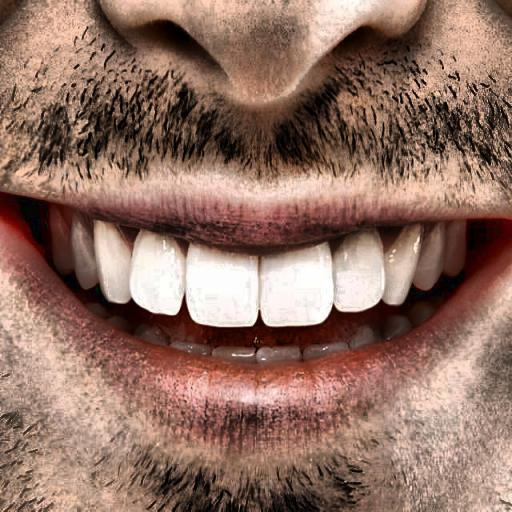Healthy: (55, 122, 450, 393)
